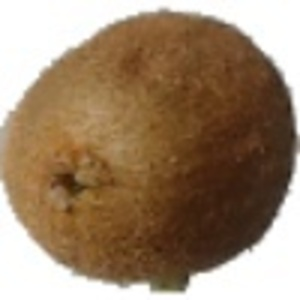kiwi: (1, 7, 300, 296)
